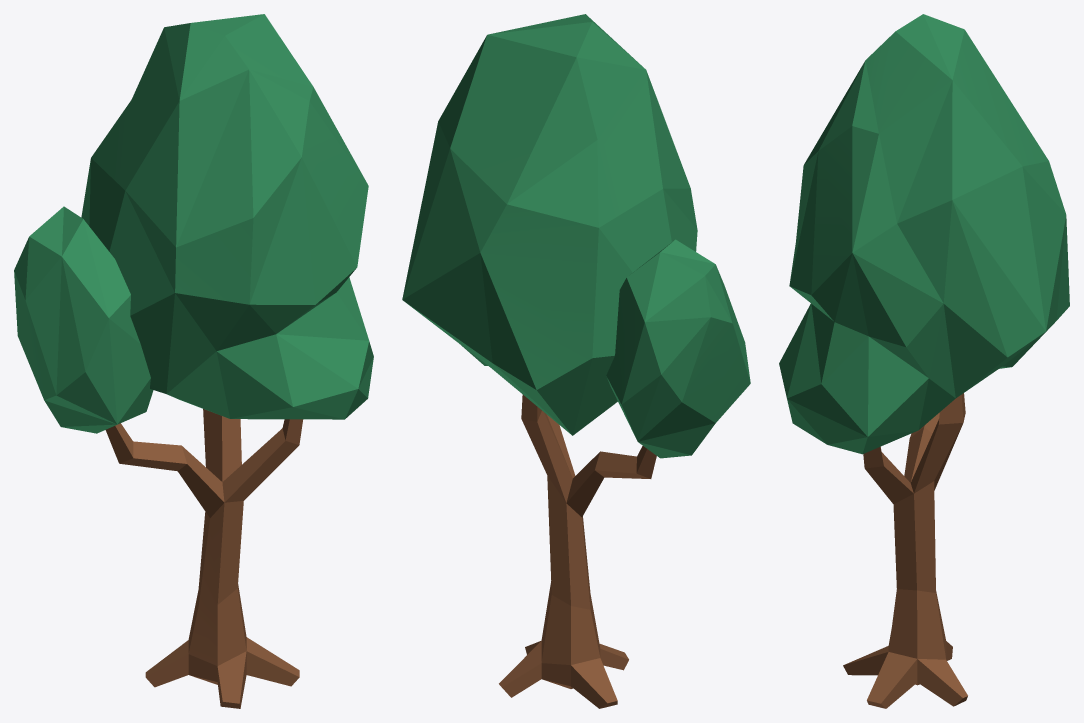
Rendered from Env_Tree_03.fbx.
3 views of the same model, side by side, from view 1: azimuth 30°, elevation 25°; view 2: azimuth 150°, elevation 25°; view 3: azimuth 270°, elevation 25° (orthographic). The views are drawn at different scales.
Visible parts, largest first — view 1: Tree_03; view 2: Tree_03; view 3: Tree_03.
Boxes of the visible parts, <box> form: Tree_03: <box>14,14,373,708</box>; Tree_03: <box>402,14,750,708</box>; Tree_03: <box>779,14,1069,708</box>.
Bounding box in the file's own units: 824 × 1707 × 682.
